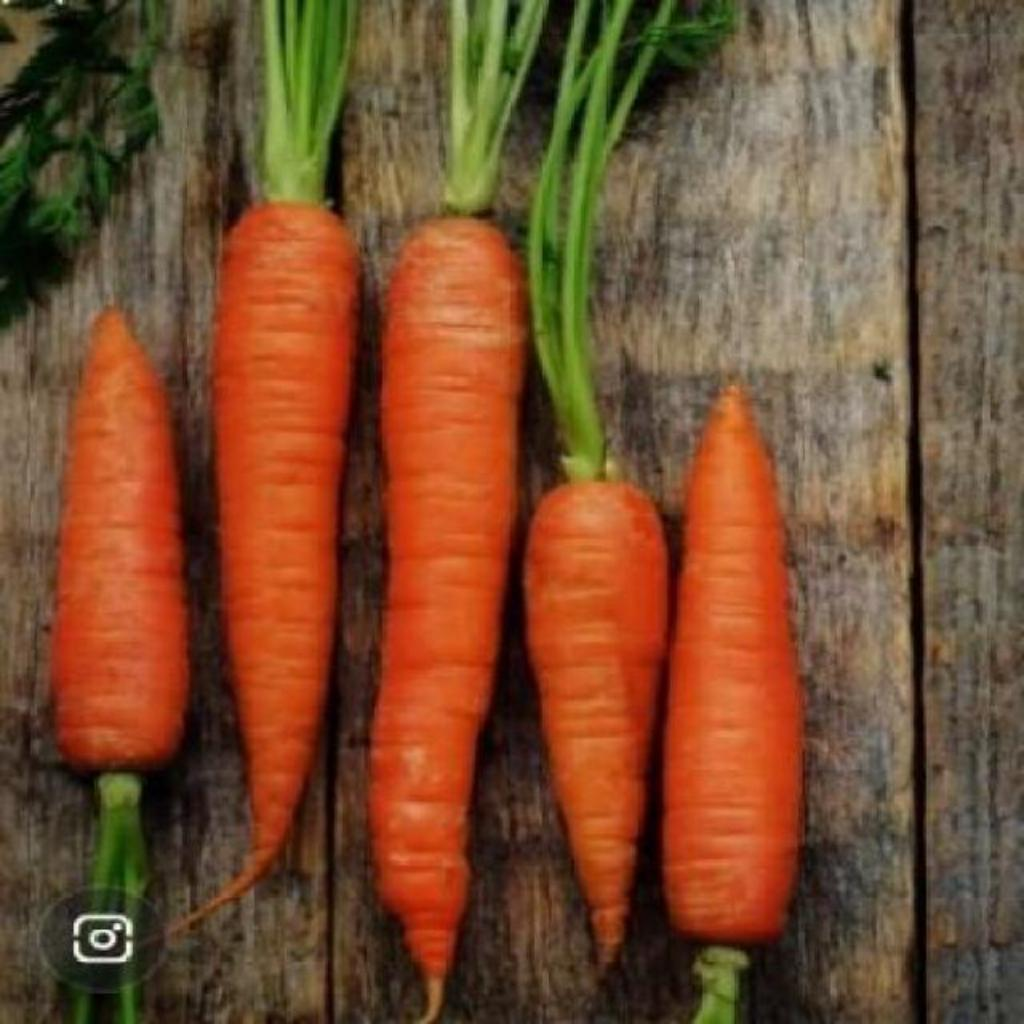carrot: (370, 0, 547, 1023), (172, 0, 358, 935), (528, 0, 675, 967), (662, 386, 802, 1023), (50, 308, 190, 919)
